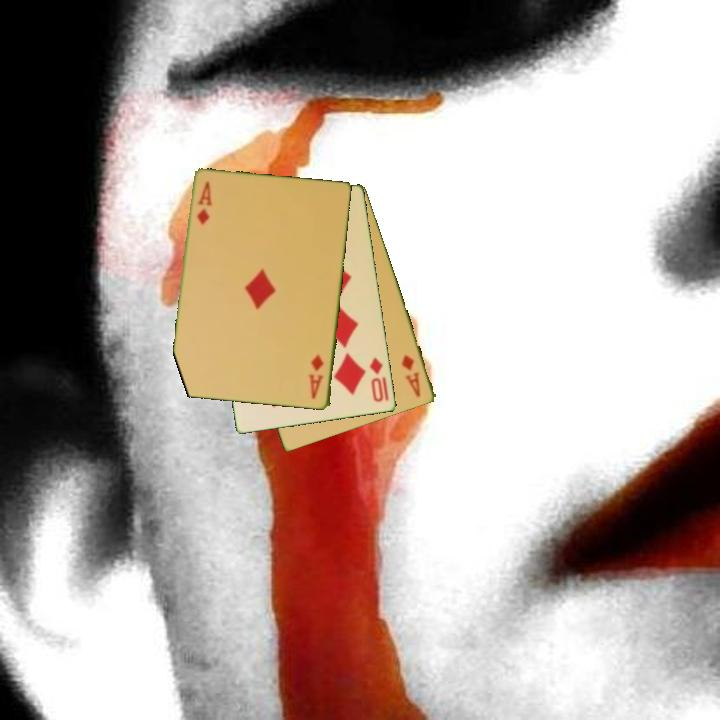10d: (366, 354, 392, 405)
Ad: (398, 352, 424, 401), (306, 351, 327, 402), (193, 178, 214, 228)
